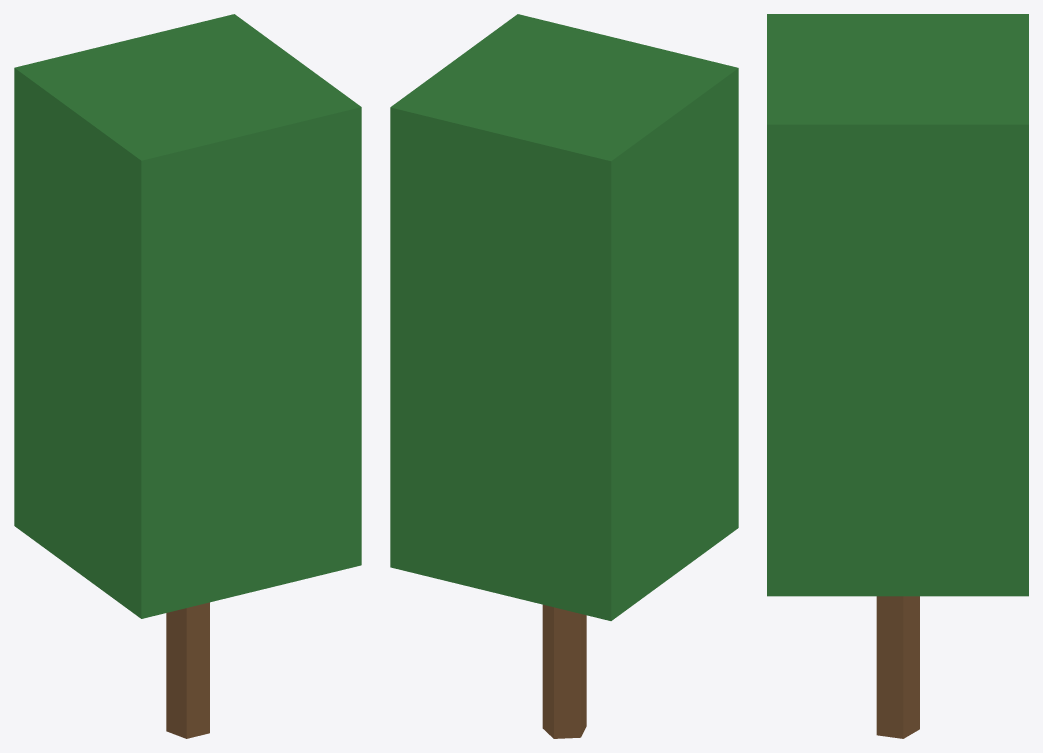
Rendered from tree-square.glb.
3 views of the same model, side by side, from view 1: azimuth 30°, elevation 25°; view 2: azimuth 150°, elevation 25°; view 3: azimuth 270°, elevation 25° (orthographic). The views are drawn at different scales.
Visible parts, largest first — view 1: tree-square; view 2: tree-square; view 3: tree-square.
Part boxes in pixels (left/top/right/bottom): tree-square: left=14, top=14, right=361, bottom=738; tree-square: left=390, top=14, right=738, bottom=738; tree-square: left=767, top=14, right=1028, bottom=738.
Bounding box in the file's own units: 1.68 × 4.68 × 1.68.
Materials: 1 (1 with a texture image).
